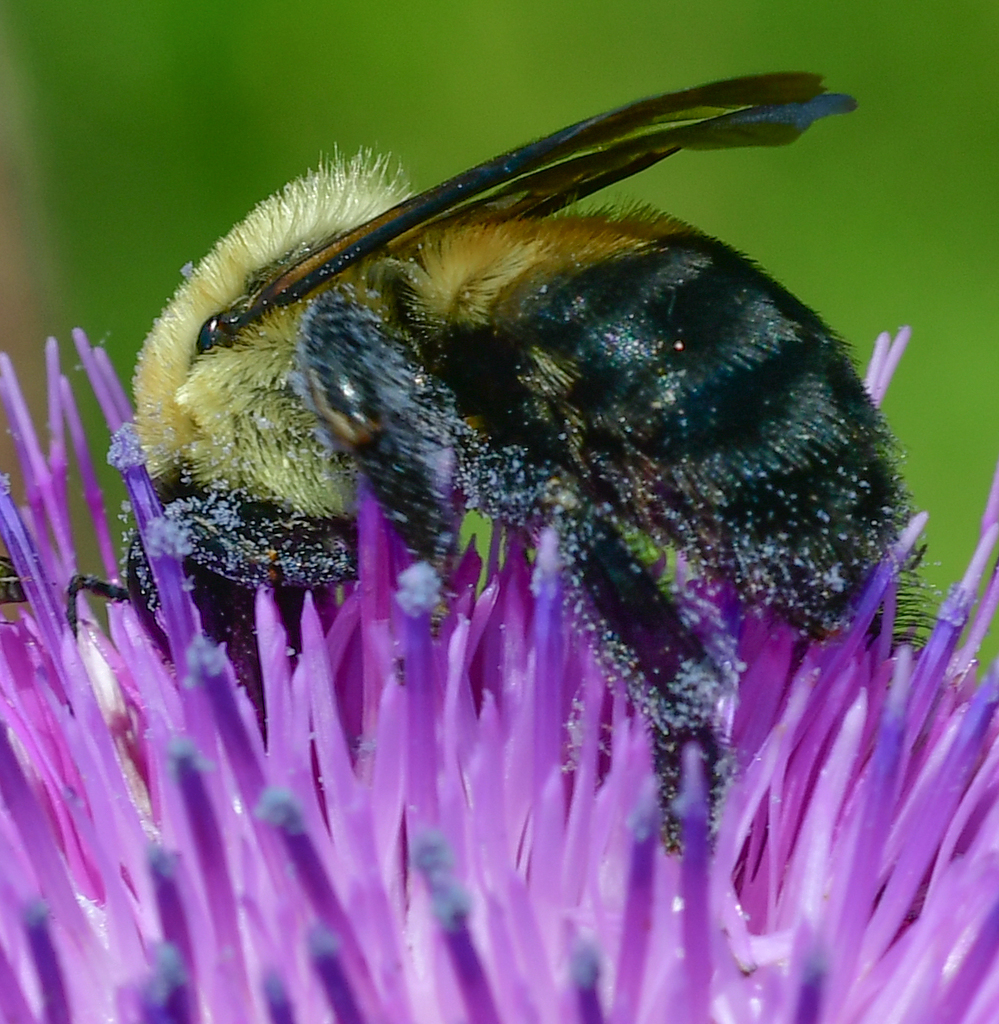bumblebee: (128, 71, 925, 860)
